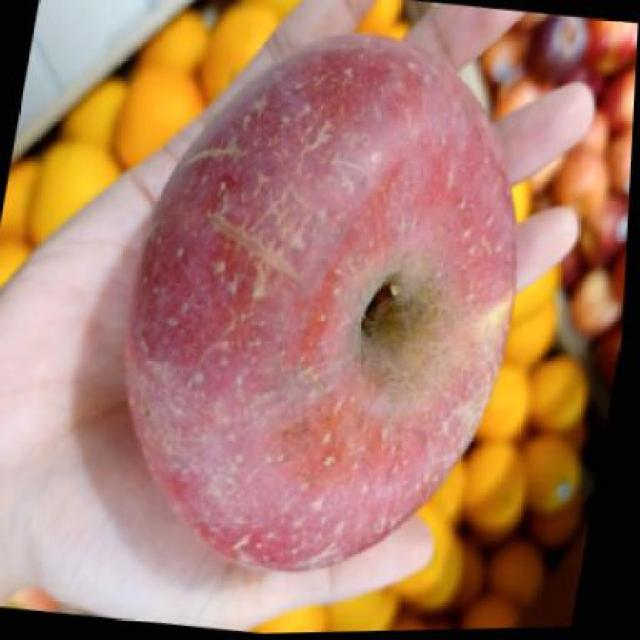Fresh Apple: (123, 39, 516, 583)
